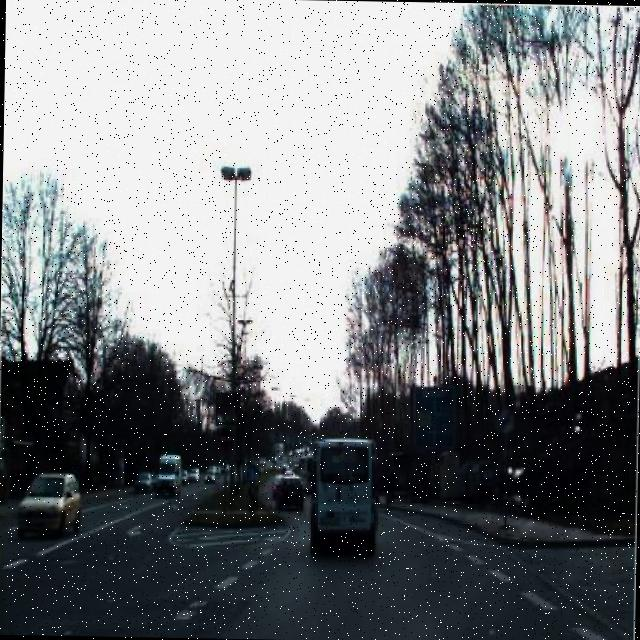Zakaz wjazdu: (218, 426, 232, 454)
